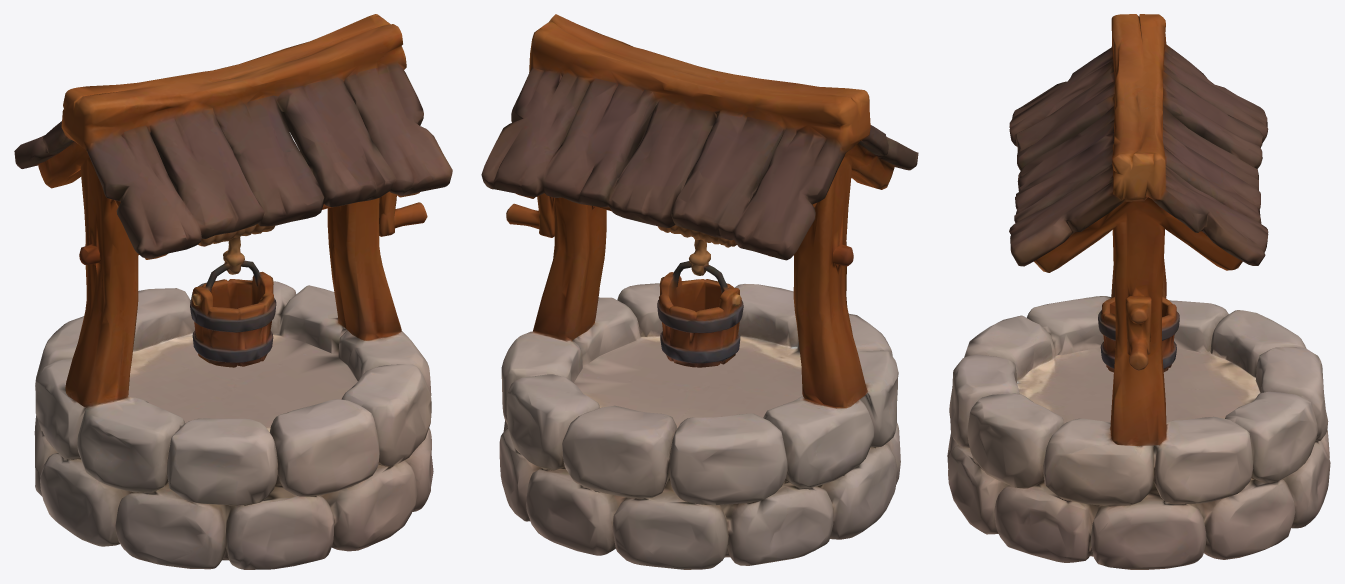
File: ev_well-DjCyA_nr.glb
3 views of the same model, side by side, from view 1: azimuth 30°, elevation 25°; view 2: azimuth 150°, elevation 25°; view 3: azimuth 270°, elevation 25° (orthographic). The views are drawn at different scales.
Visible parts, largest first — view 1: tripo_node_ce7c6fd6-580f-472b-b499-64e57458525f; view 2: tripo_node_ce7c6fd6-580f-472b-b499-64e57458525f; view 3: tripo_node_ce7c6fd6-580f-472b-b499-64e57458525f.
Boxes of the visible parts, x1,y1,x2,y2 form: tripo_node_ce7c6fd6-580f-472b-b499-64e57458525f: (14, 14, 452, 569); tripo_node_ce7c6fd6-580f-472b-b499-64e57458525f: (481, 14, 918, 569); tripo_node_ce7c6fd6-580f-472b-b499-64e57458525f: (947, 14, 1330, 569).
Bounding box in the file's own units: 2.99 × 3.4 × 2.87.
Materials: 1 (1 with a texture image).
